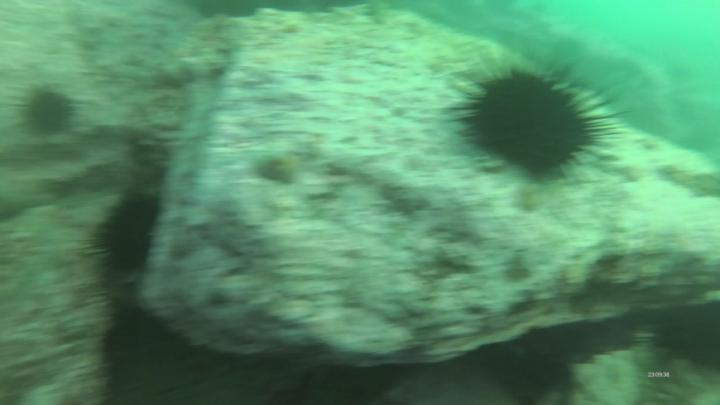echinus: (460, 61, 603, 188), (96, 192, 162, 280), (18, 86, 77, 139)
